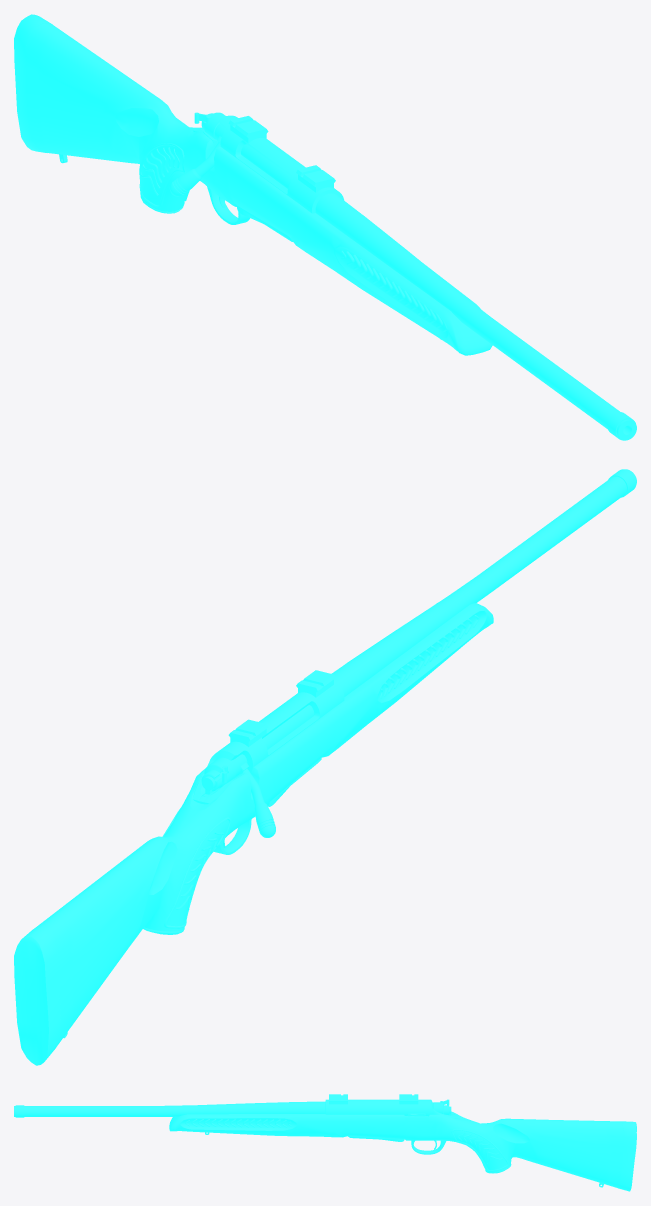
Rendered from gun.glb.
3 views of the same model, one above another, from view 1: azimuth 30°, elevation 25°; view 2: azimuth 150°, elevation 25°; view 3: azimuth 270°, elevation 25° (orthographic). The views are drawn at different scales.
Parts seen in each view (by area): view 1: Low_Poly_Low-poly_Cube.001; view 2: Low_Poly_Low-poly_Cube.001; view 3: Low_Poly_Low-poly_Cube.001.
Part boxes in pixels (left/top/right/bottom): Low_Poly_Low-poly_Cube.001: left=14, top=14, right=636, bottom=440; Low_Poly_Low-poly_Cube.001: left=14, top=469, right=636, bottom=1065; Low_Poly_Low-poly_Cube.001: left=14, top=1094, right=636, bottom=1191.
Size of the model in its own units: 0.7054 by 1.61 by 9.6.
